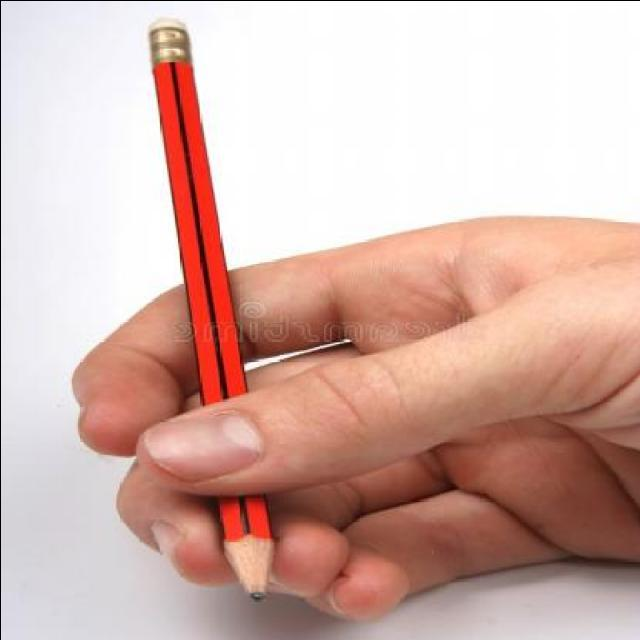Pencil: (202, 514, 290, 612)
